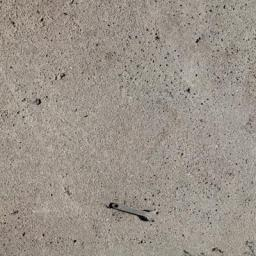FOD: (107, 199, 162, 226)
